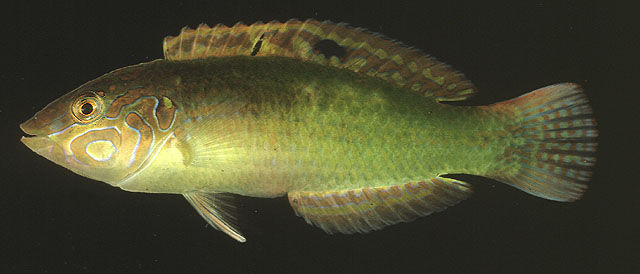fish: (20, 16, 598, 243)
